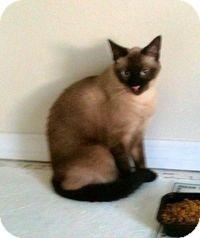siamese: (104, 33, 168, 102)
